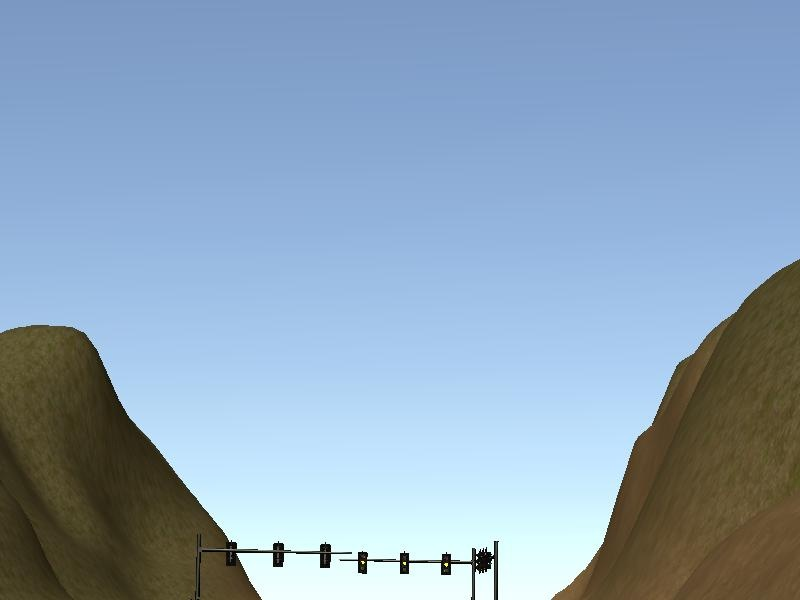traffic_light_yellow: (344, 551, 473, 577)
